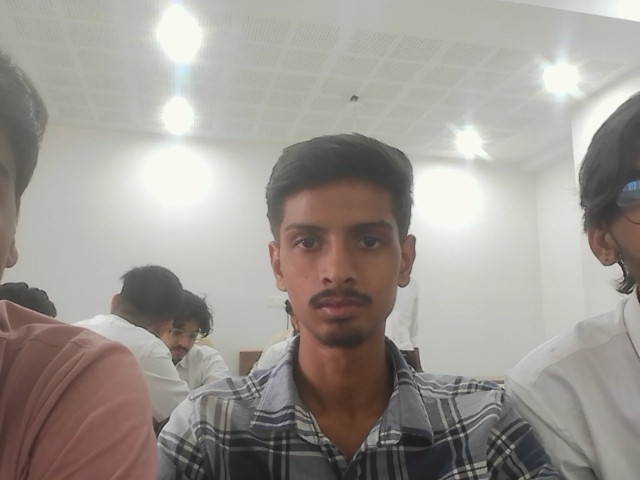light_on: (443, 114, 495, 165), (151, 87, 203, 133), (545, 68, 587, 103), (615, 5, 636, 25)
person: (0, 42, 158, 477), (497, 92, 639, 479), (75, 258, 192, 435), (160, 289, 228, 387), (6, 282, 57, 317)
